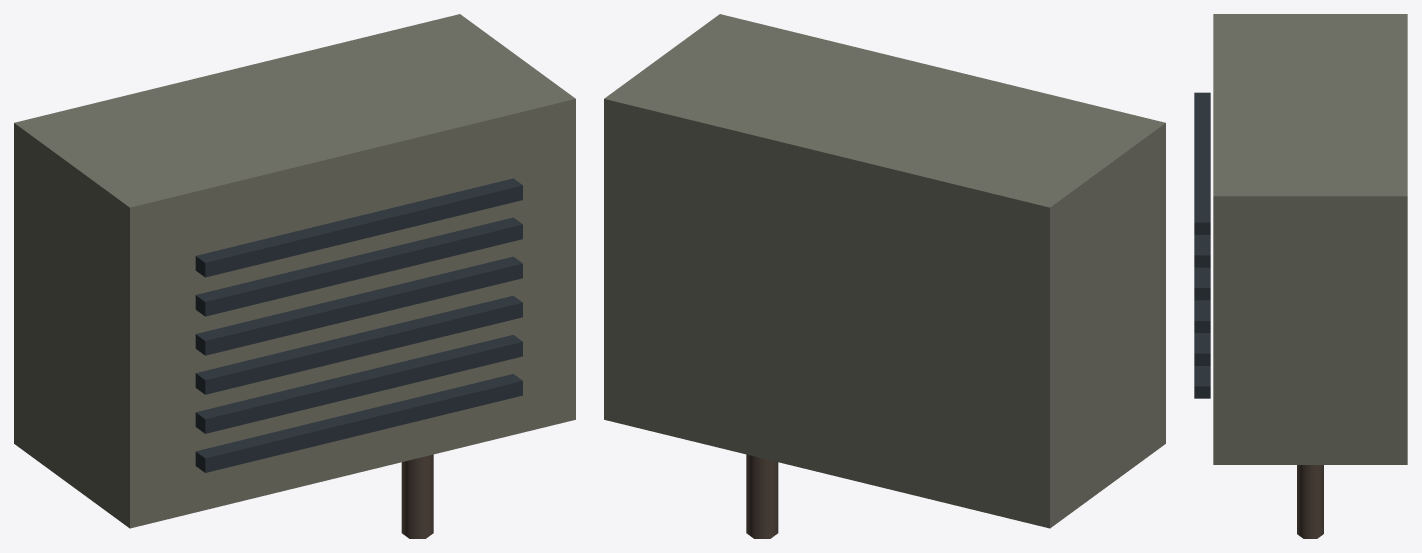
Rendered from la-aircon.glb.
3 renders of one model, left to right at view 1: azimuth 30°, elevation 25°; view 2: azimuth 150°, elevation 25°; view 3: azimuth 270°, elevation 25°, orthographic. The views are drawn at different scales.
Visible parts, largest first — view 1: la-aircon; view 2: la-aircon; view 3: la-aircon.
Boxes of the visible parts, left/top/right/bottom form: la-aircon: left=14, top=14, right=575, bottom=538; la-aircon: left=604, top=14, right=1165, bottom=538; la-aircon: left=1194, top=14, right=1407, bottom=538.
Size of the model in its own units: 0.8 by 0.775 by 0.395.
